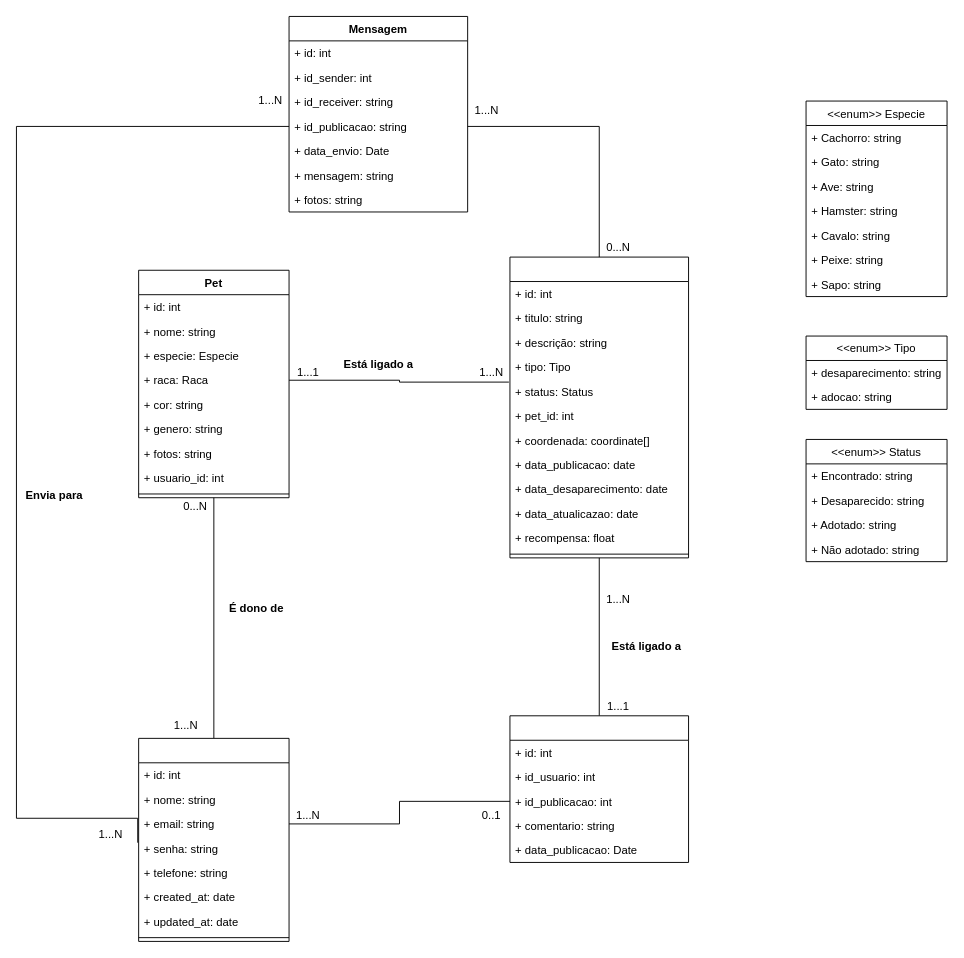
Image size: 964x958. Some labels were removed from this diagram. The box of each missing label's shape, as (x1, y1, x2, y2) in pixels:
Comentário: (509, 715, 689, 862)
Publicação: (509, 256, 689, 558)
Usuário: (138, 737, 289, 941)
